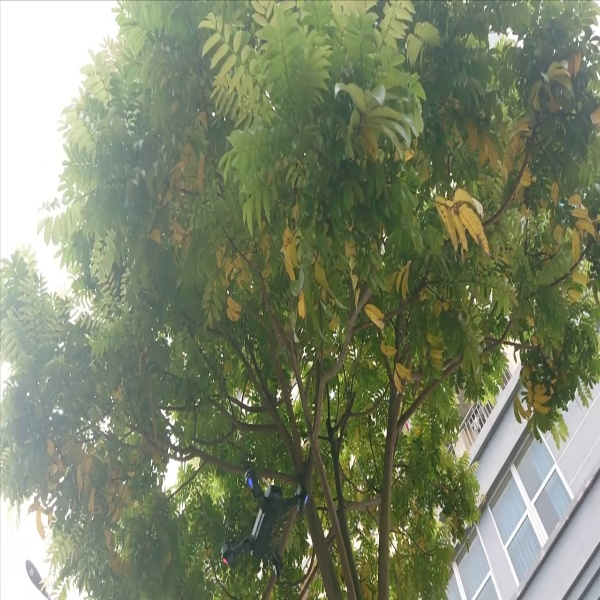drone: (215, 458, 312, 578)
